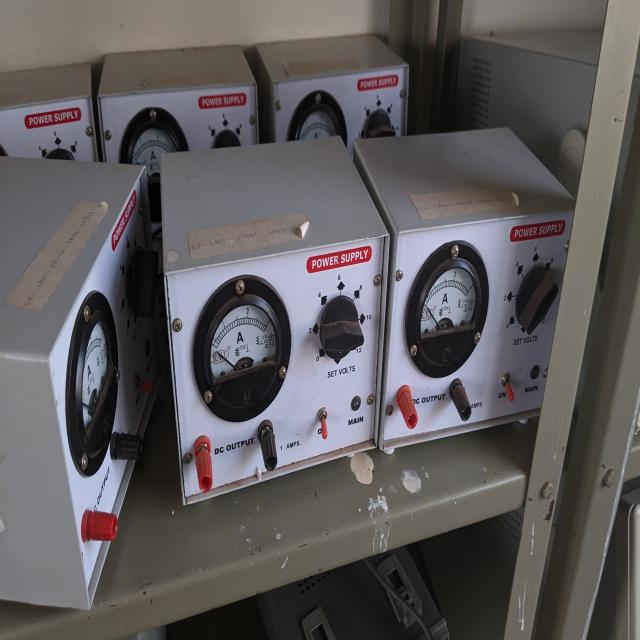Analog DC Power Supply: (153, 161, 389, 510)
